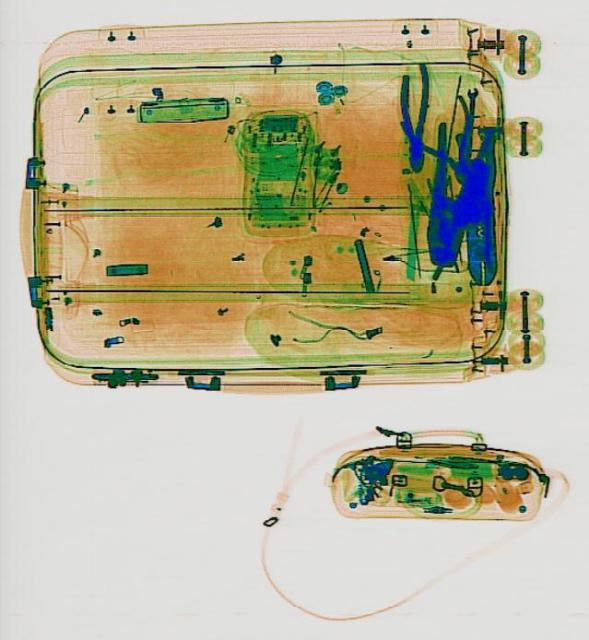Pliers: (412, 119, 490, 271), (403, 92, 500, 194), (459, 131, 497, 285), (395, 64, 430, 174)
